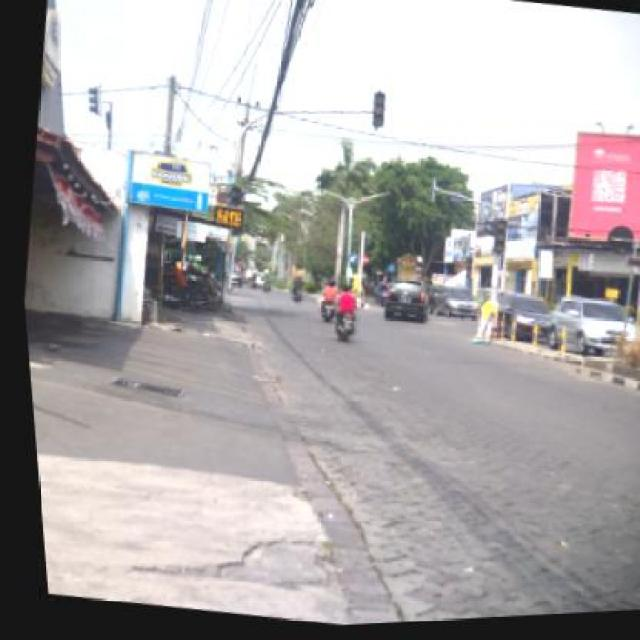yellow_light: (363, 94, 389, 135), (484, 222, 507, 260)
